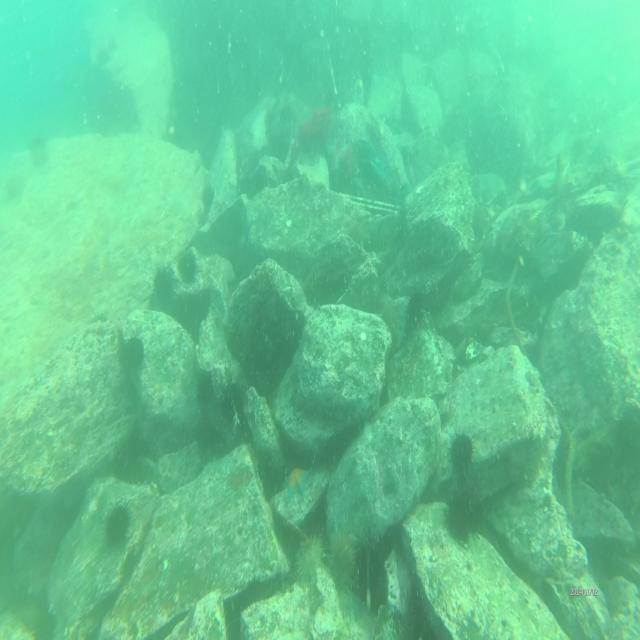echinus: (101, 496, 133, 554), (448, 424, 480, 480), (294, 532, 326, 582), (331, 528, 359, 584), (442, 490, 472, 540), (121, 334, 148, 377), (178, 248, 200, 288), (155, 264, 175, 306), (26, 131, 48, 169), (200, 178, 217, 214)
starfish: (282, 465, 312, 501)
